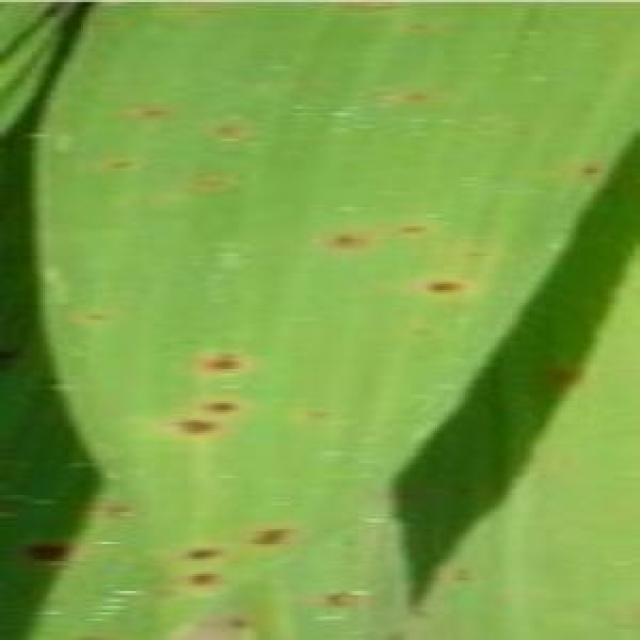brownspots: (532, 358, 614, 406), (245, 522, 303, 554), (326, 222, 374, 256), (392, 218, 446, 245), (174, 538, 230, 564), (200, 397, 252, 422), (316, 588, 370, 612), (198, 350, 246, 376), (177, 568, 246, 586), (132, 98, 179, 124), (566, 158, 632, 175), (170, 412, 220, 434), (21, 535, 66, 559), (209, 119, 252, 143), (194, 168, 237, 192), (397, 90, 437, 111), (428, 272, 466, 294), (104, 154, 141, 170)
